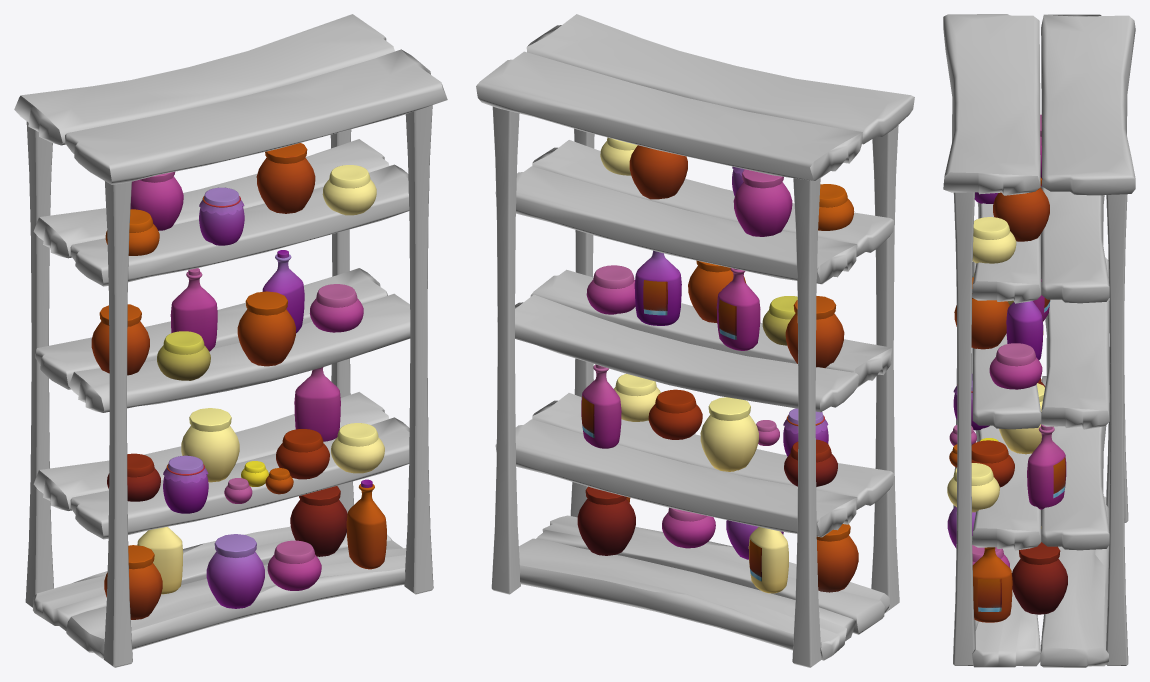
Rendered from SM_Shelvings.fbx.
The picture shows the model from 3 angles, left to right: view 1: azimuth 30°, elevation 25°; view 2: azimuth 150°, elevation 25°; view 3: azimuth 270°, elevation 25°; orthographic projection. The views are drawn at different scales.
Parts seen in each view (by area): view 1: SM_Shelvings_01, SM_Sh_jars1; view 2: SM_Shelvings_01, SM_Sh_jars1; view 3: SM_Shelvings_01, SM_Sh_jars1.
Boxes of the visible parts, left/top/right/bottom form: SM_Shelvings_01: left=14, top=14, right=447, bottom=667; SM_Sh_jars1: left=91, top=143, right=386, bottom=619; SM_Shelvings_01: left=476, top=14, right=914, bottom=667; SM_Sh_jars1: left=577, top=137, right=858, bottom=593; SM_Shelvings_01: left=943, top=14, right=1135, bottom=667; SM_Sh_jars1: left=947, top=114, right=1067, bottom=622.
Size of the model in its own units: 267 by 375 by 132.
